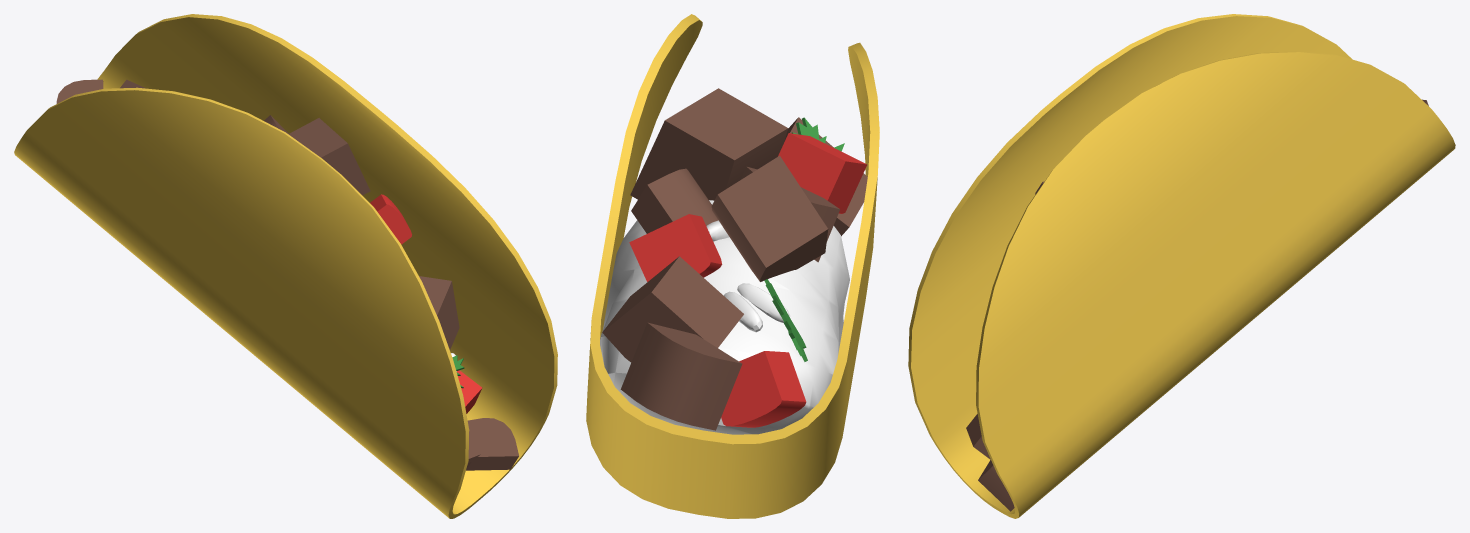
The model's file is taco.fbx.
3 renders of one model, left to right at view 1: azimuth 30°, elevation 25°; view 2: azimuth 150°, elevation 25°; view 3: azimuth 270°, elevation 25°, orthographic. The views are drawn at different scales.
Visible parts, largest first — view 1: Cube.354; view 2: Cube.354; view 3: Cube.354.
Part boxes in pixels (x1,y1,x2,y2): Cube.354: [14, 14, 557, 518]; Cube.354: [586, 14, 879, 518]; Cube.354: [908, 14, 1455, 518].
Size of the model in its own units: 190 by 214 by 257.
1 material, 1 textured.
